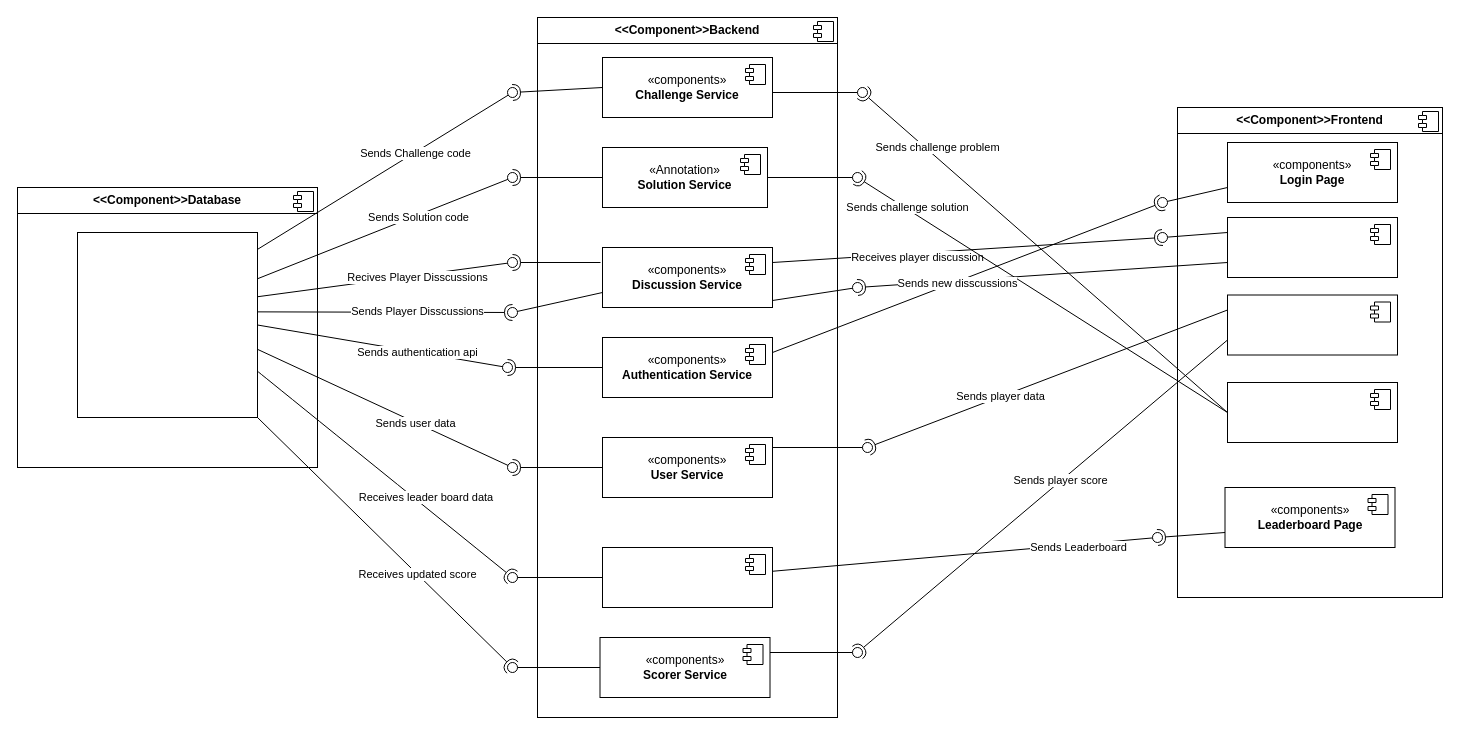
This 1460x735 diagram has some shape labels left out. The shapes that lost their labels are listed below. From the top down, each one's centre as x and y in pixels, then its label:
At [1312,247]: "«components» Discussion Page".
At [167,325]: "«Annotation» Database".
At [1312,324]: "«components» Profile Page".
At [1312,412]: "«components» Challenge Page".
At [687,577]: "«components» Leaderboard Service".
